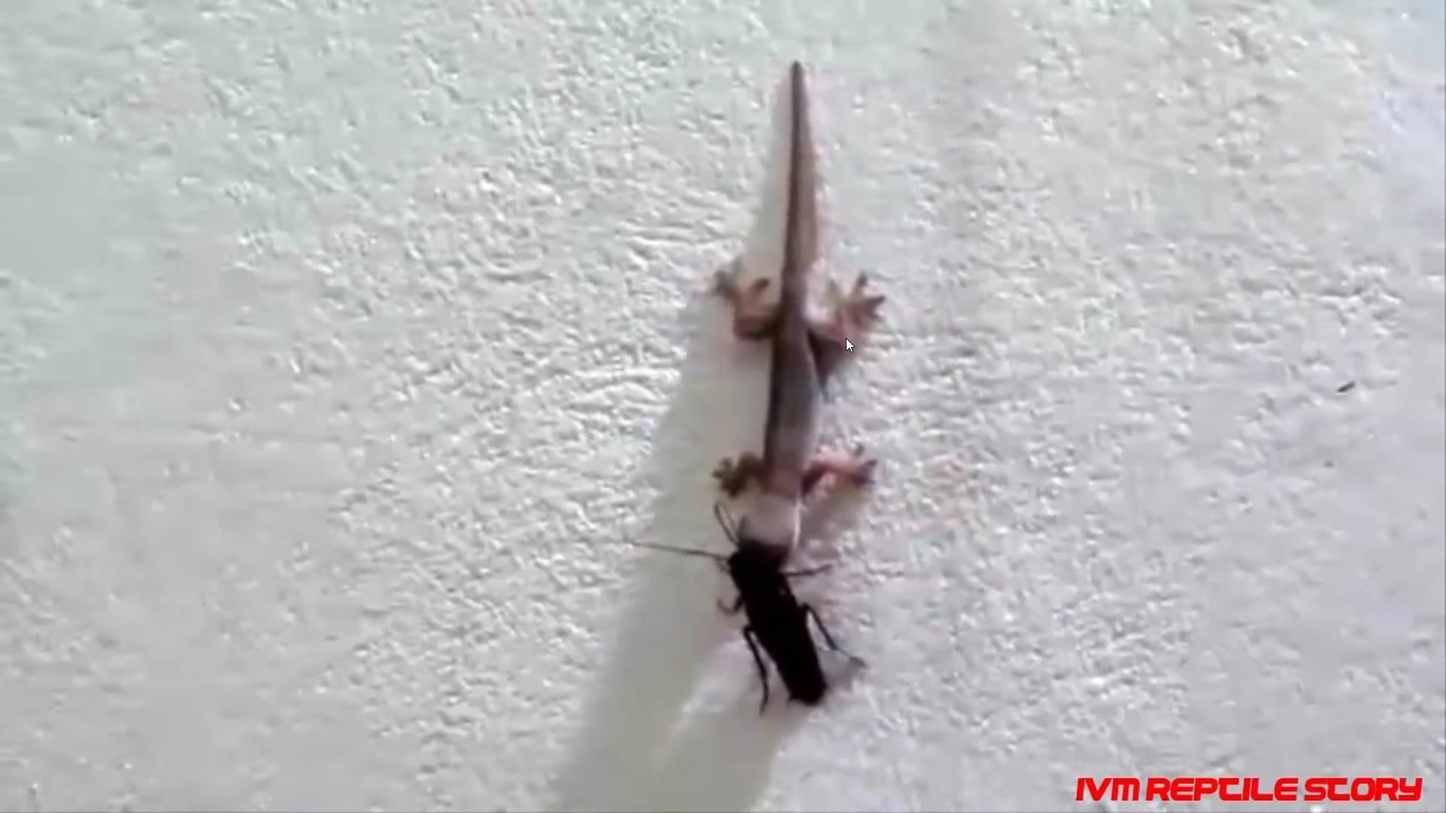cockroach: (696, 543, 842, 708)
lizard: (669, 116, 894, 562)
